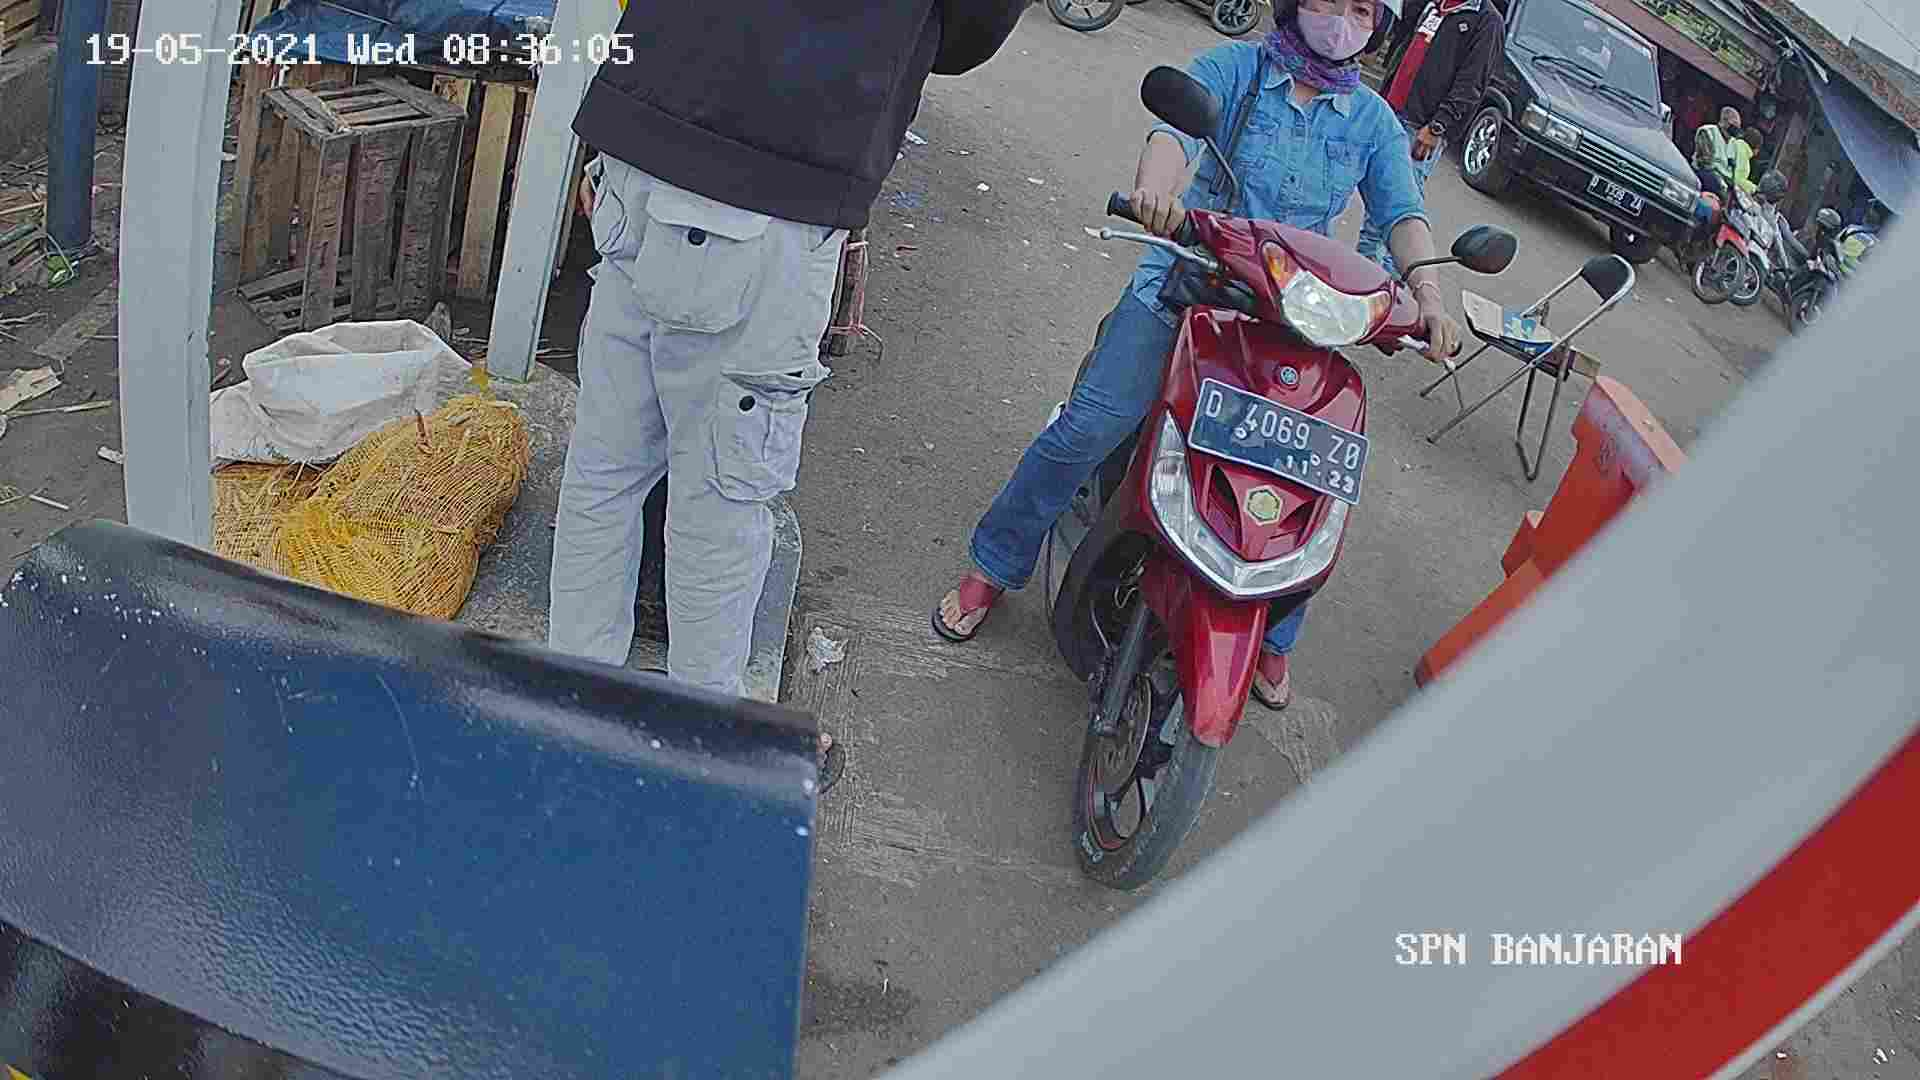motor: (1035, 164, 1418, 897)
